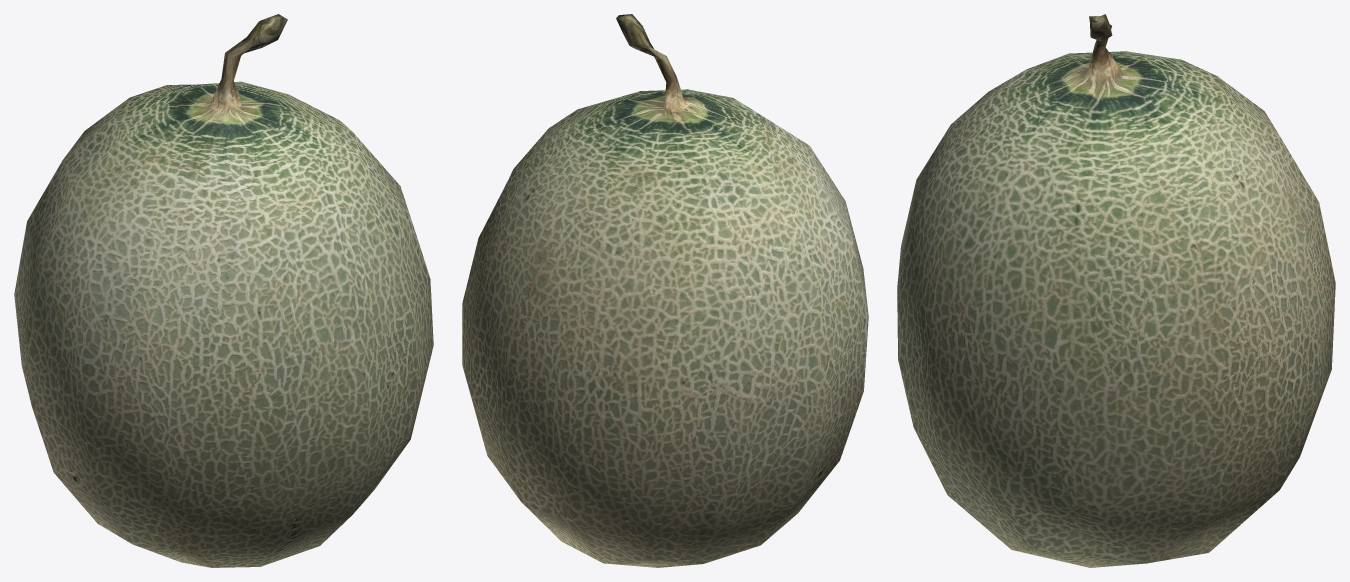
File: A137_Cantaloupe_low.fbx
3 renders of one model, left to right at view 1: azimuth 30°, elevation 25°; view 2: azimuth 150°, elevation 25°; view 3: azimuth 270°, elevation 25°, orthographic. The views are drawn at different scales.
Visible parts, largest first — view 1: A137_Cantaloupe_low; view 2: A137_Cantaloupe_low; view 3: A137_Cantaloupe_low.
Boxes of the visible parts, bbox=[...] form: A137_Cantaloupe_low: bbox=[14, 14, 433, 567]; A137_Cantaloupe_low: bbox=[462, 14, 868, 567]; A137_Cantaloupe_low: bbox=[897, 14, 1335, 567].
Size of the model in its own units: 19.66 by 19.61 by 27.36.
Materials: 1 (1 with a texture image).
